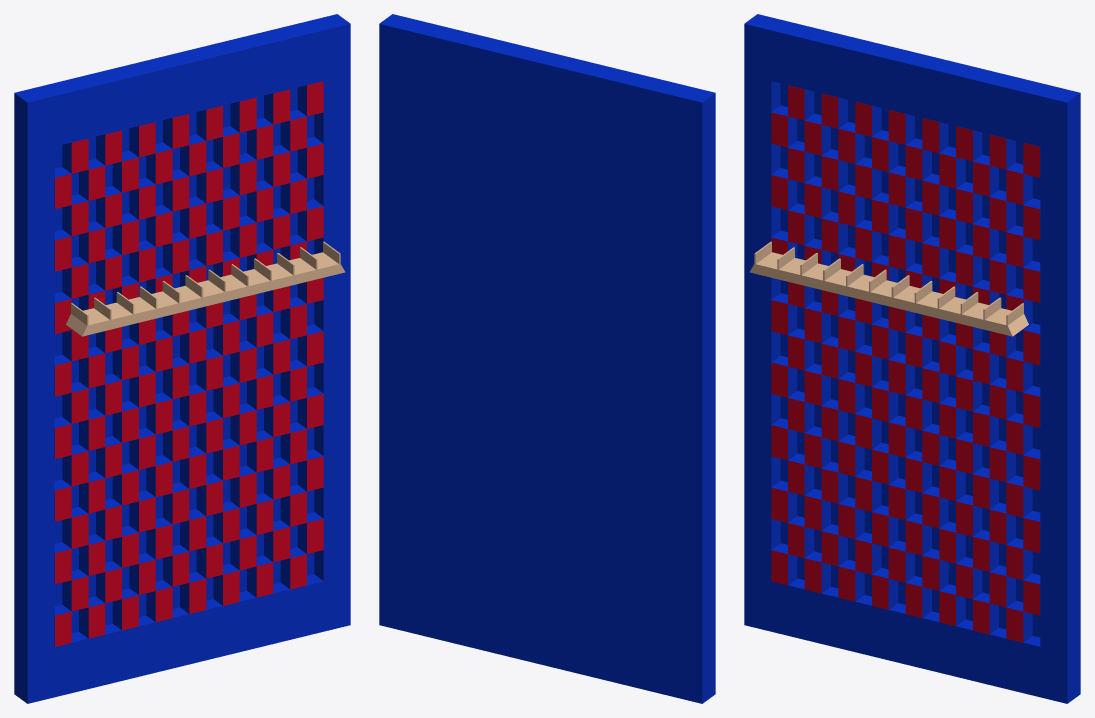
The model's file is Background.fbx.
3 views of the same model, side by side, from view 1: azimuth 30°, elevation 25°; view 2: azimuth 150°, elevation 25°; view 3: azimuth 330°, elevation 25° (orthographic).
Parts seen in each view (by area): view 1: Plane, Cube; view 2: Plane; view 3: Plane, Cube.
Part boxes in pixels (x1,y1,x2,y2): Plane: (14,14,350,703); Cube: (66,241,345,336); Plane: (379,14,715,703); Plane: (744,14,1080,703); Cube: (750,241,1028,336).
Bounding box in the file's own units: 108 × 192 × 22.09.
